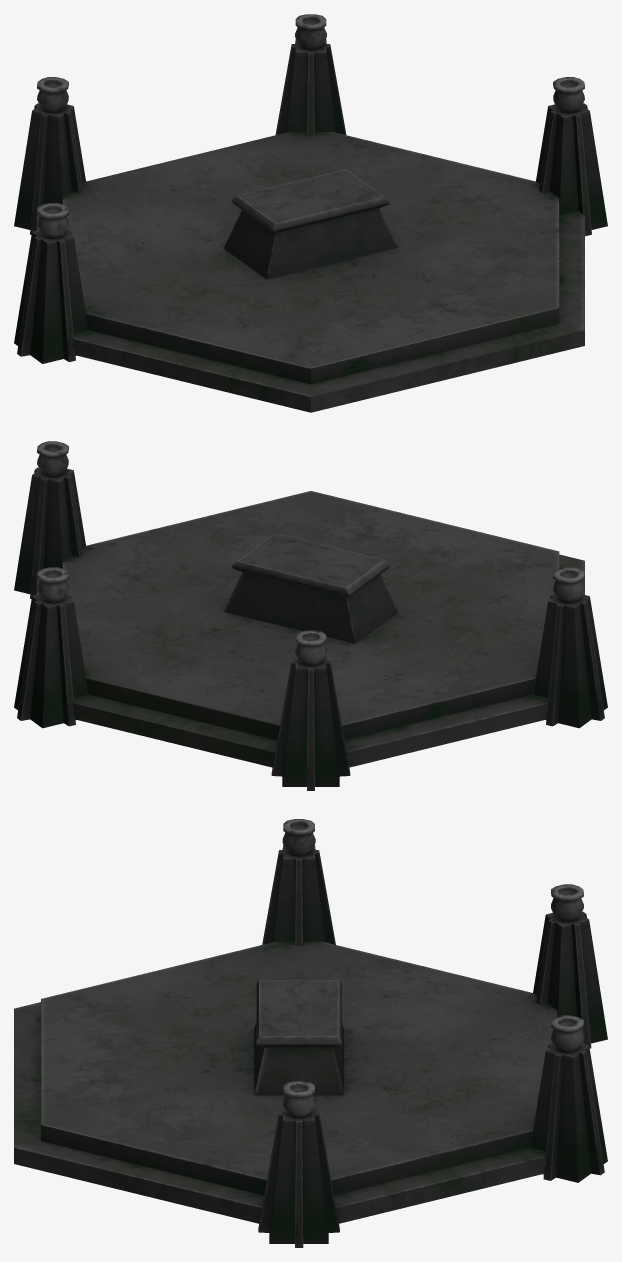
Rendered from DAIZA.fbx.
The picture shows the model from 3 angles, top to bottom: view 1: azimuth 30°, elevation 25°; view 2: azimuth 150°, elevation 25°; view 3: azimuth 270°, elevation 25°; orthographic projection. The views are drawn at different scales.
Parts seen in each view (by area): view 1: BgMD_daiza; view 2: BgMD_daiza; view 3: BgMD_daiza.
Boxes of the visible parts, x1,y1,x2,y2 form: BgMD_daiza: (14, 14, 607, 412); BgMD_daiza: (14, 441, 607, 790); BgMD_daiza: (14, 819, 607, 1247).
Size of the model in its own units: 718 by 162 by 608.
